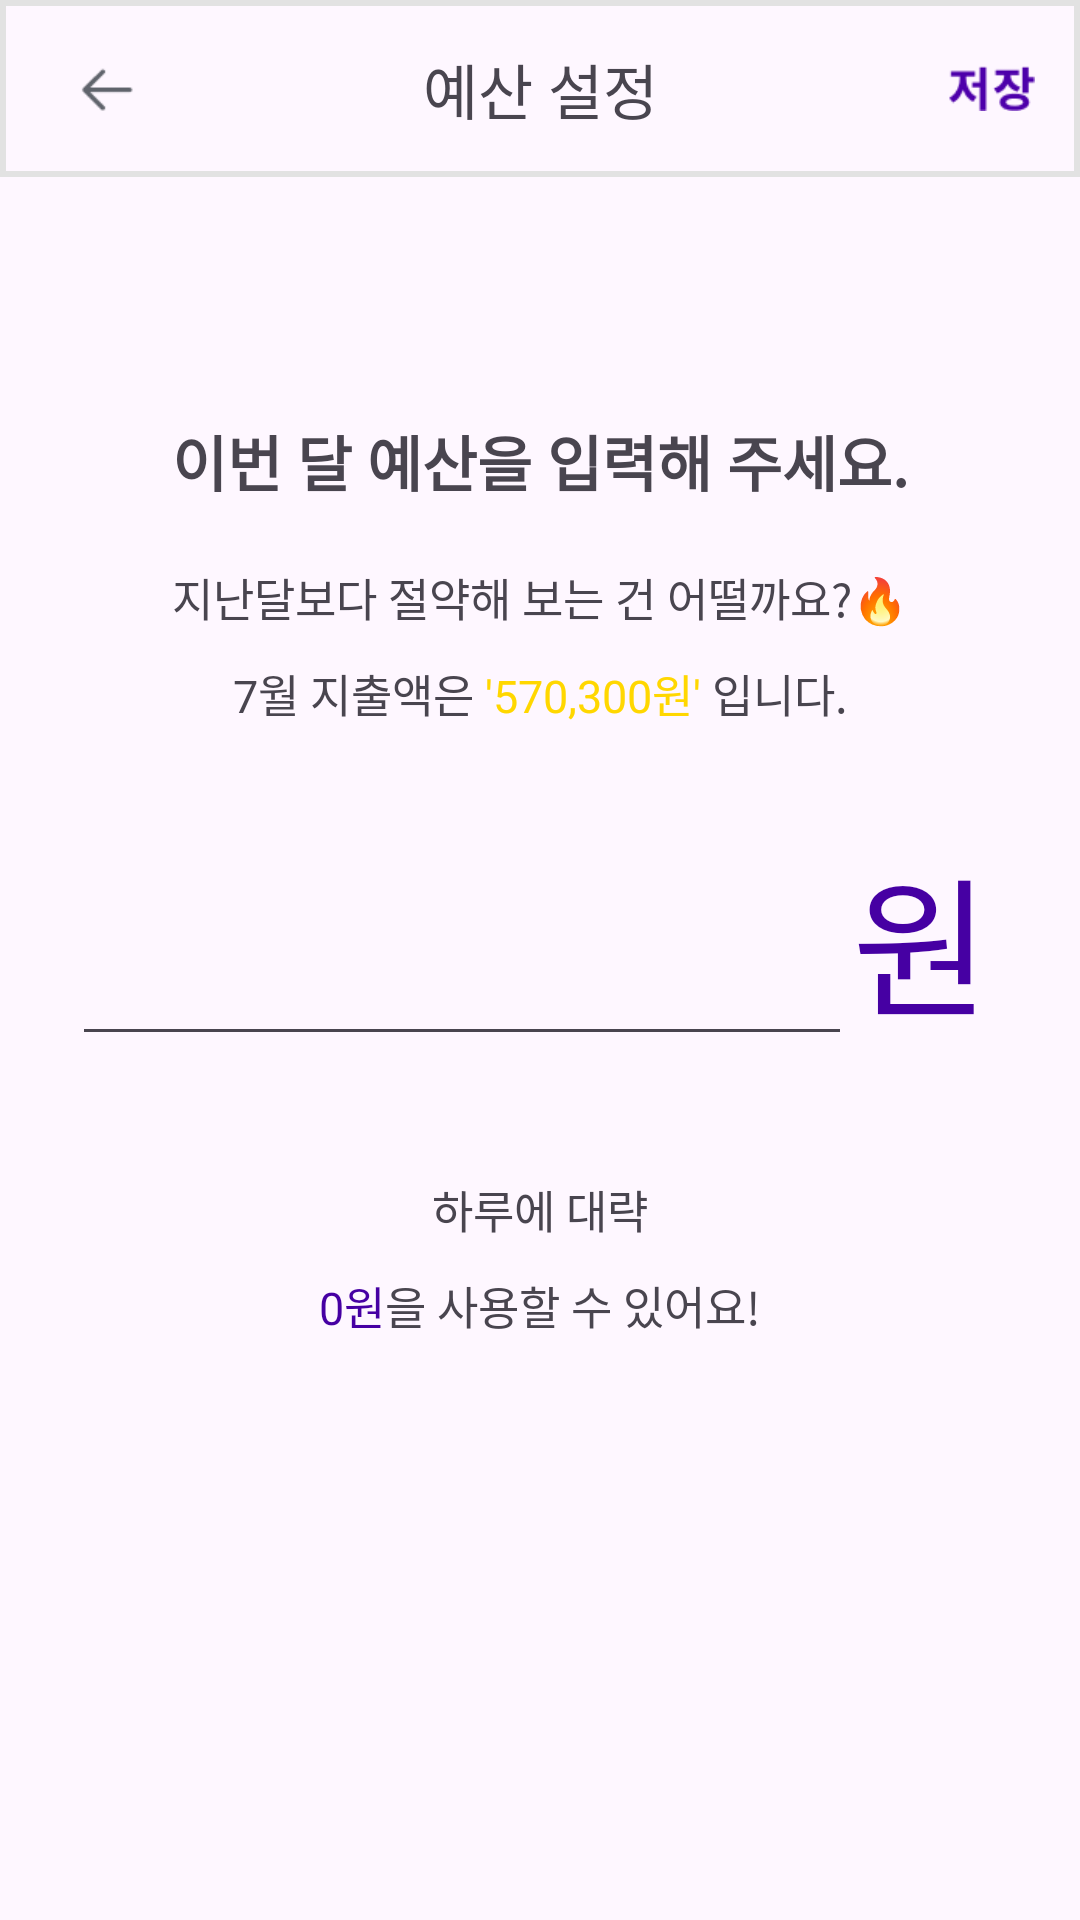

Where to tap for icons on this 1080x1920 app screen, as (x,y):
goback: (107,90)
